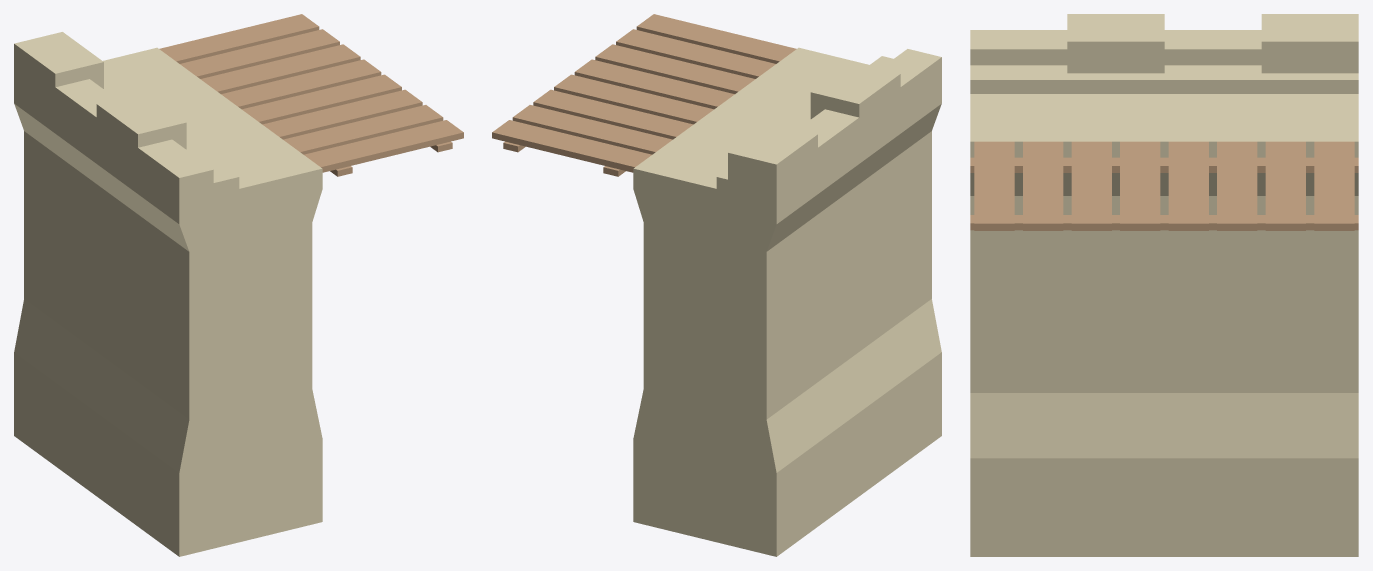
The model's file is wallnarrowwood.glb.
3 renders of one model, left to right at view 1: azimuth 30°, elevation 25°; view 2: azimuth 150°, elevation 25°; view 3: azimuth 270°, elevation 25°, orthographic. The views are drawn at different scales.
Parts seen in each view (by area): view 1: wallNarrowWood, bridge 5; view 2: wallNarrowWood, bridge 5; view 3: wallNarrowWood, bridge 5.
Part boxes in pixels (x1,y1,x2,y2): wallNarrowWood: (14,32,322,556); bridge 5: (159,14,463,176); wallNarrowWood: (633,47,941,556); bridge 5: (492,14,796,176); wallNarrowWood: (970,14,1358,556); bridge 5: (970,141,1358,230).
Size of the model in its own units: 10 by 13.1 by 10.
